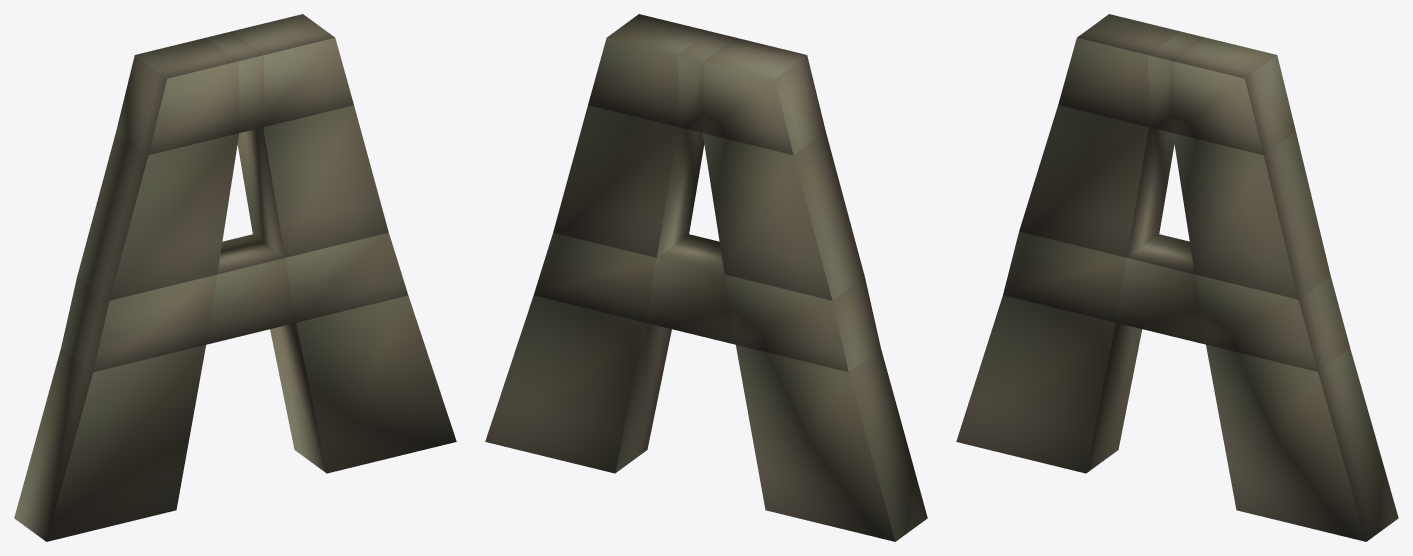
3 views of the same model, side by side, from view 1: azimuth 30°, elevation 25°; view 2: azimuth 150°, elevation 25°; view 3: azimuth 330°, elevation 25° (orthographic).
Parts seen in each view (by area): view 1: T1L4M007_30; view 2: T1L4M007_30; view 3: T1L4M007_30.
Part boxes in pixels (bbox=[...]): T1L4M007_30: bbox=[14, 14, 456, 541]; T1L4M007_30: bbox=[485, 14, 927, 541]; T1L4M007_30: bbox=[956, 14, 1398, 541].
Bounding box in the file's own units: 0.4717 × 0.4766 × 0.0645.
